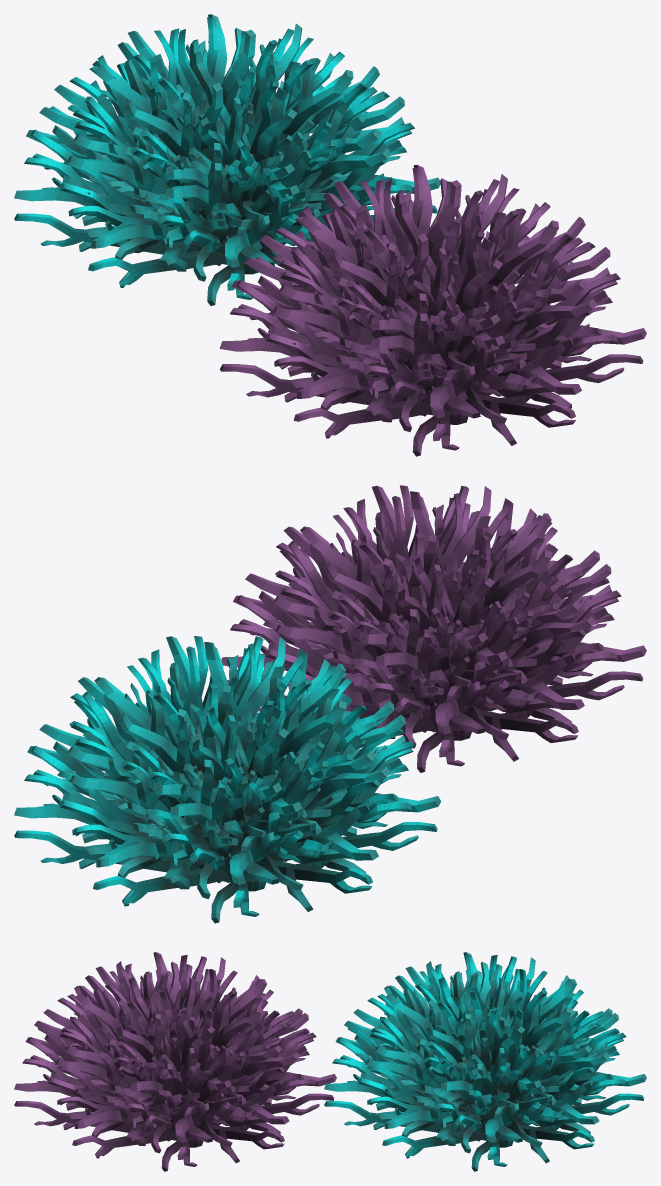
The model's file is plant_06.fbx.
3 renders of one model, top to bottom at view 1: azimuth 30°, elevation 25°; view 2: azimuth 150°, elevation 25°; view 3: azimuth 270°, elevation 25°, orthographic. The views are drawn at different scales.
Visible parts, largest first — view 1: polySurface10, polySurface9; view 2: polySurface9, polySurface10; view 3: polySurface10, polySurface9.
Part boxes in pixels (box(x1,y1,x2,y2)): polySurface10: box(219, 164, 646, 456); polySurface9: box(14, 14, 440, 305); polySurface9: box(14, 636, 441, 923); polySurface10: box(221, 485, 646, 772); polySurface10: box(14, 952, 336, 1171); polySurface9: box(324, 952, 646, 1171).
Size of the model in its own units: 8.43 by 4.91 by 16.53.
